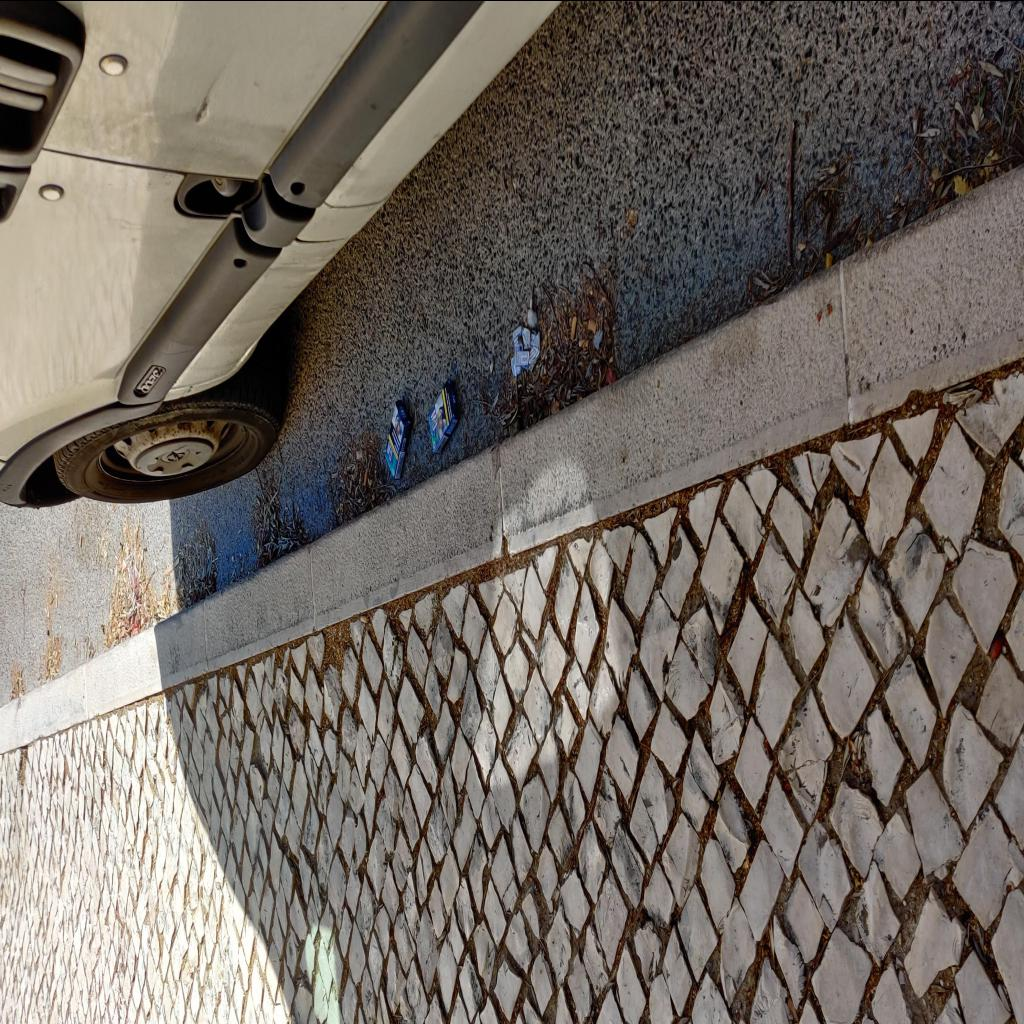Cigarette: (570, 317, 578, 341), (588, 320, 598, 335), (579, 338, 588, 348), (360, 614, 368, 622), (55, 592, 59, 606), (364, 468, 366, 486)
Other carton: (427, 380, 459, 452), (385, 398, 411, 480)
Other plastic: (510, 326, 540, 376)
